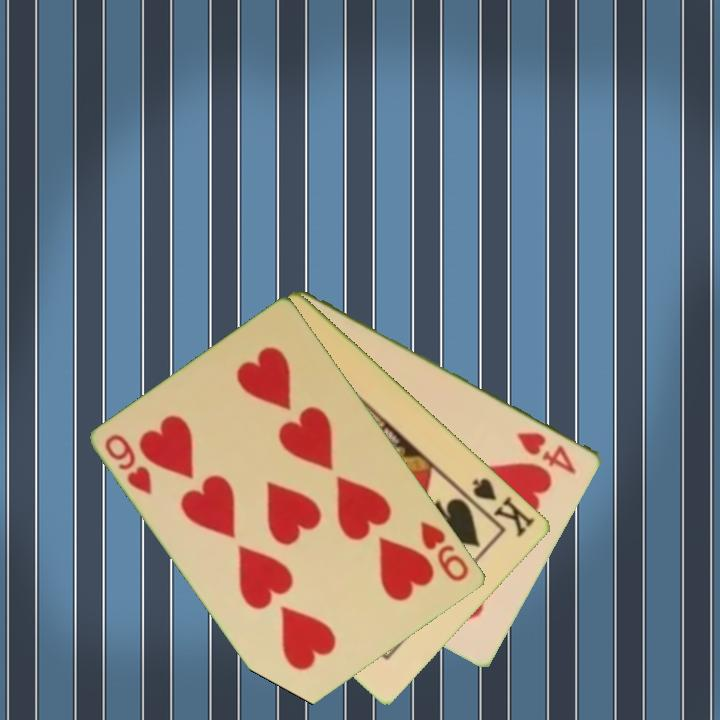4h: (514, 428, 580, 477)
9h: (417, 517, 472, 585), (101, 430, 156, 498)
Ks: (460, 474, 539, 540)
